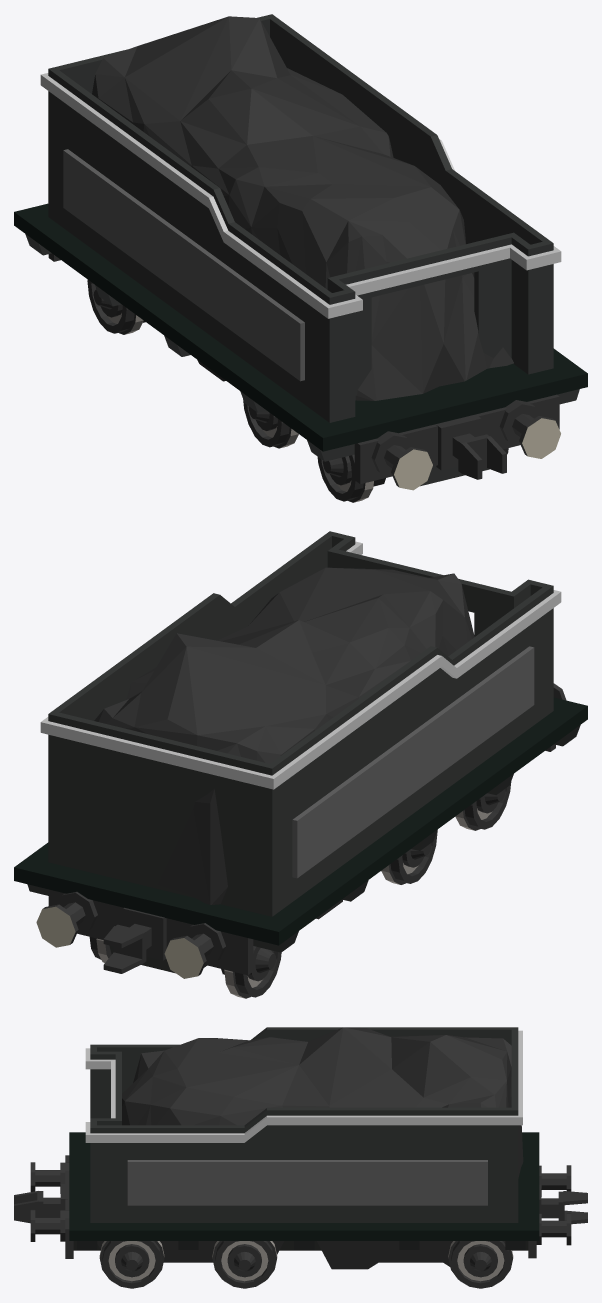
The model's file is Train Coal Tender.glb.
3 views of the same model, one above another, from view 1: azimuth 30°, elevation 25°; view 2: azimuth 150°, elevation 25°; view 3: azimuth 270°, elevation 25° (orthographic). The views are drawn at different scales.
Visible parts, largest first — view 1: Train Coal Tender; view 2: Train Coal Tender; view 3: Train Coal Tender.
Part boxes in pixels (<box>): Train Coal Tender: <box>14,14,587,502</box>; Train Coal Tender: <box>14,531,587,998</box>; Train Coal Tender: <box>14,1027,587,1288</box>.
Size of what is drawn, in the model's own units: 2.58 by 2.89 by 6.36.
1 material, 1 textured.
